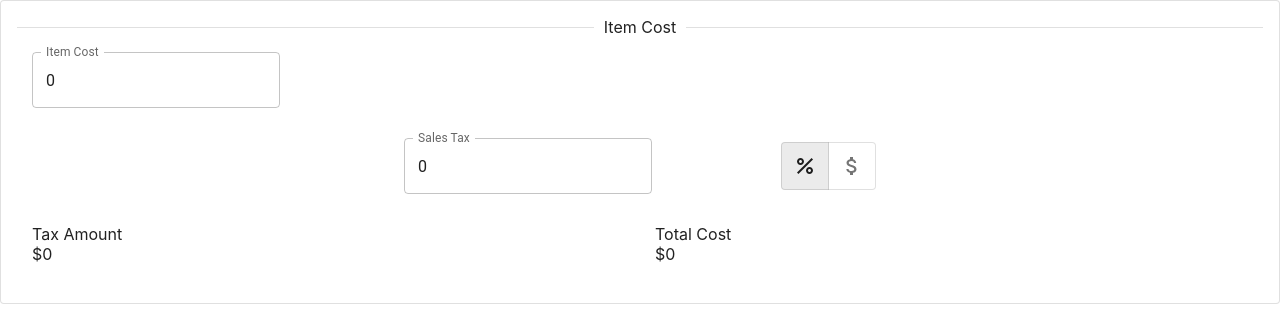
Test: Item Cost Component › Input Cost Ony
Type "8" into the number field labelled "Item Cost" at [156, 80], box left=32, top=52, right=280, bottom=108
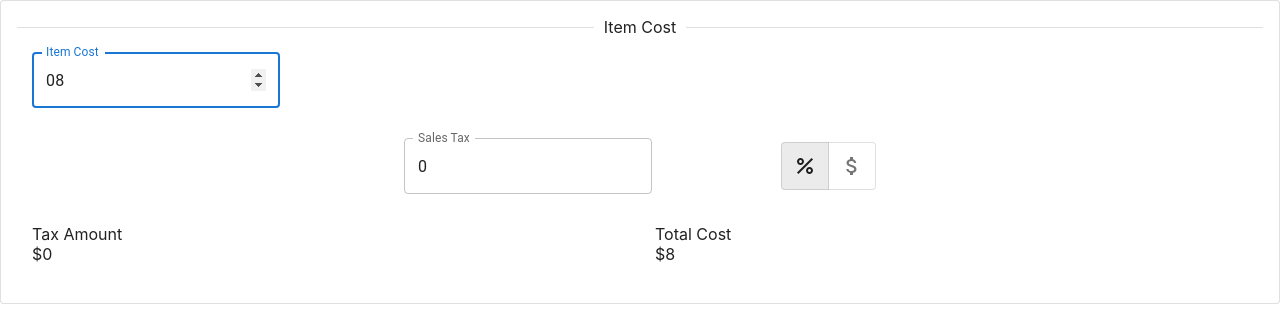
Now the text with test id "spTotalCost" reads "$8", box left=655, top=244, right=675, bottom=264
